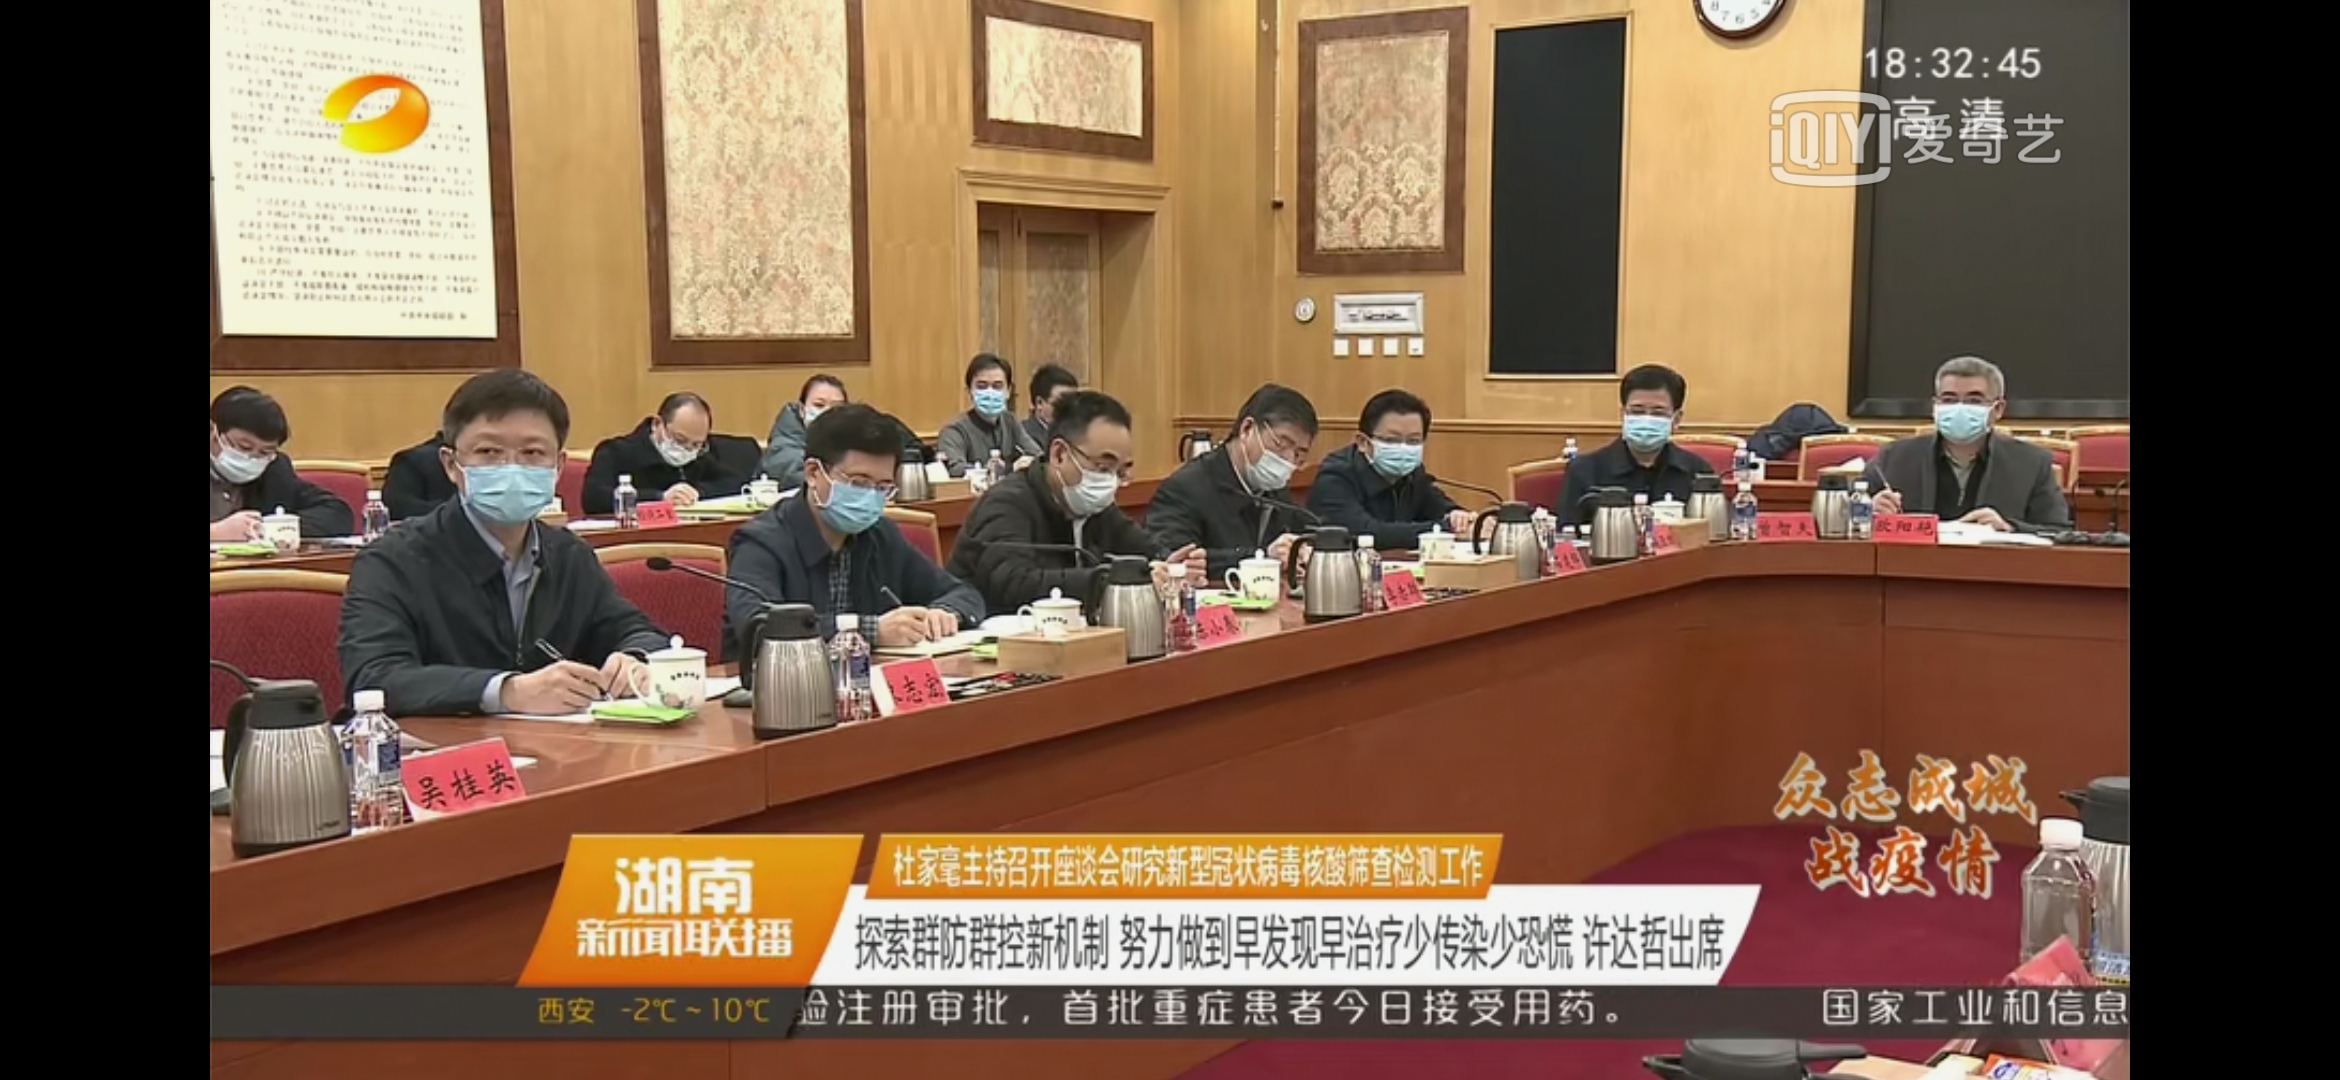correctlyWear: (431, 365, 578, 524), (1036, 386, 1145, 521), (1222, 374, 1321, 495), (201, 382, 298, 495), (1604, 351, 1697, 456), (801, 446, 904, 539), (1921, 354, 2013, 446), (1354, 380, 1436, 473), (639, 383, 719, 476), (957, 343, 1022, 421), (800, 386, 843, 430)
